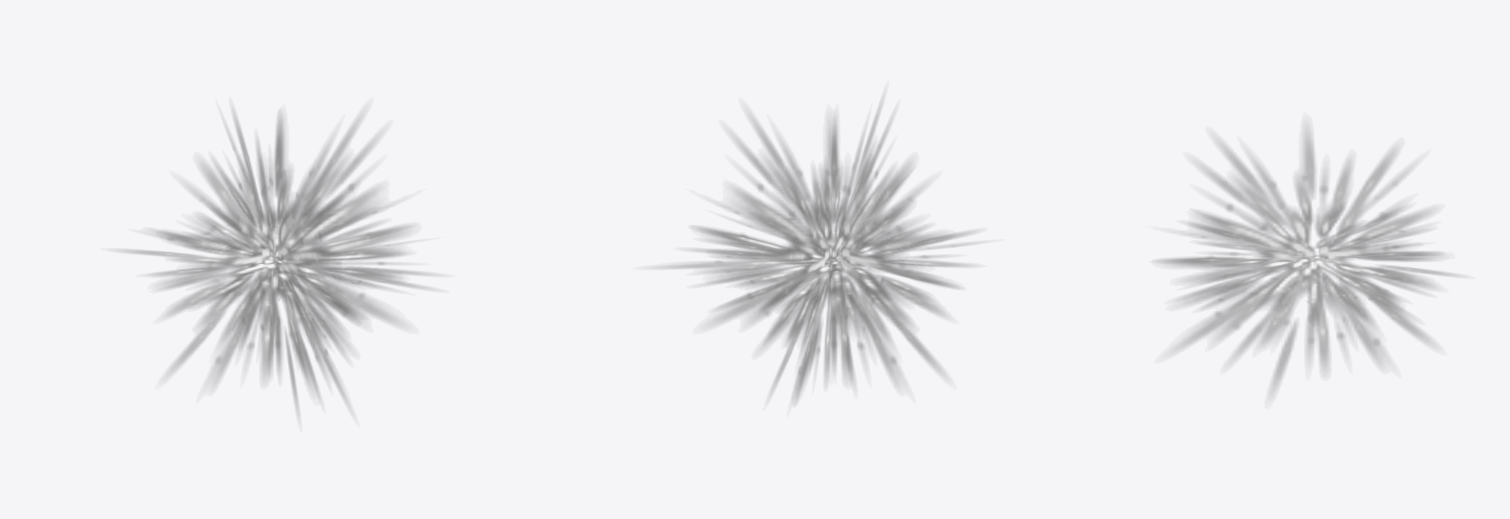
File: si_ees_2000.glb
3 views of the same model, side by side, from view 1: azimuth 30°, elevation 25°; view 2: azimuth 150°, elevation 25°; view 3: azimuth 270°, elevation 25° (orthographic). The views are drawn at different scales.
Visible parts, largest first — view 1: layer_00_si_est_0202; view 2: layer_00_si_est_0202; view 3: layer_00_si_est_0202.
Boxes of the visible parts, x1,y1,x2,y2 form: layer_00_si_est_0202: (122,112,430,412); layer_00_si_est_0202: (661,102,973,400); layer_00_si_est_0202: (1158,129,1456,392).
Size of the model in its own units: 3200 by 3200 by 3200.
Materials: 1 (1 with a texture image).
